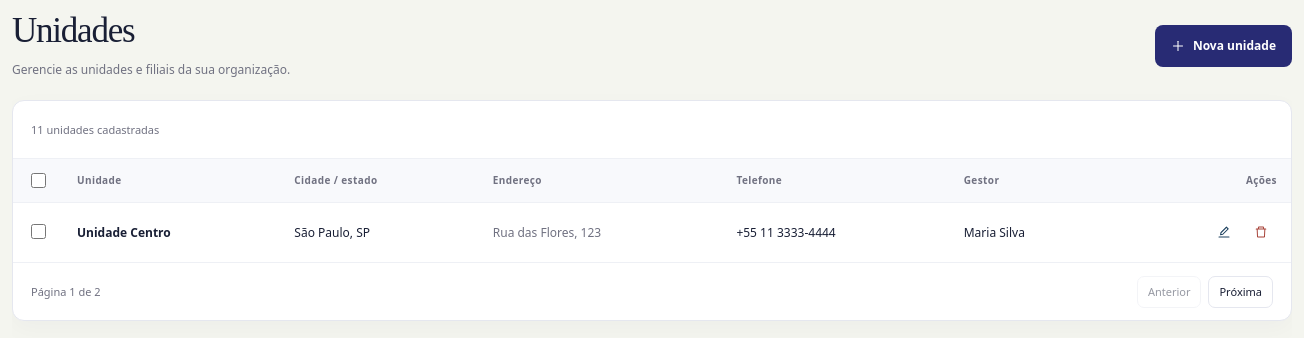
Scenario: locations page › navigates through paginated locations
Expected: the table named "Unidades da organização" is shown, [13,159,1291,262]
Click the button with aria-label "Próxima página". click: x=1241, y=292
box: [1208,276,1273,308]
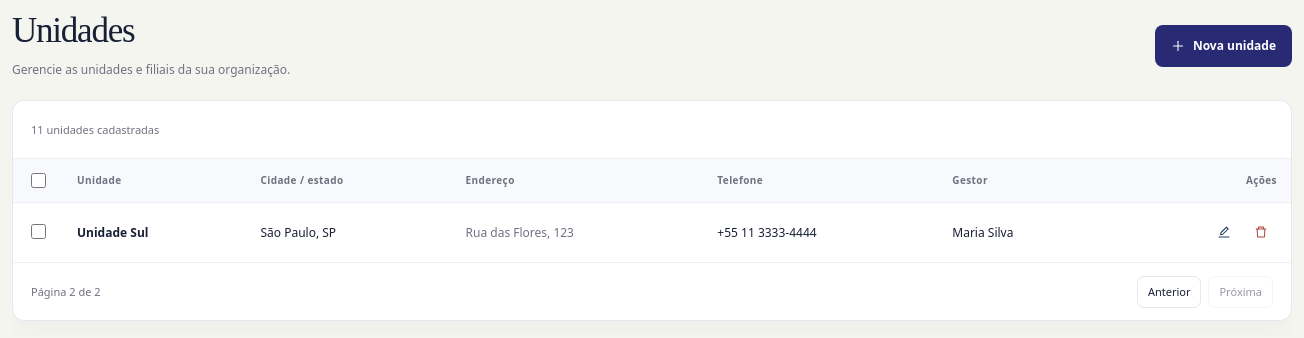
Result: the text "Unidade Sul" is shown at [77,224,148,241]
Result: the text "Página 2 de 2" is shown at [31,284,101,299]
